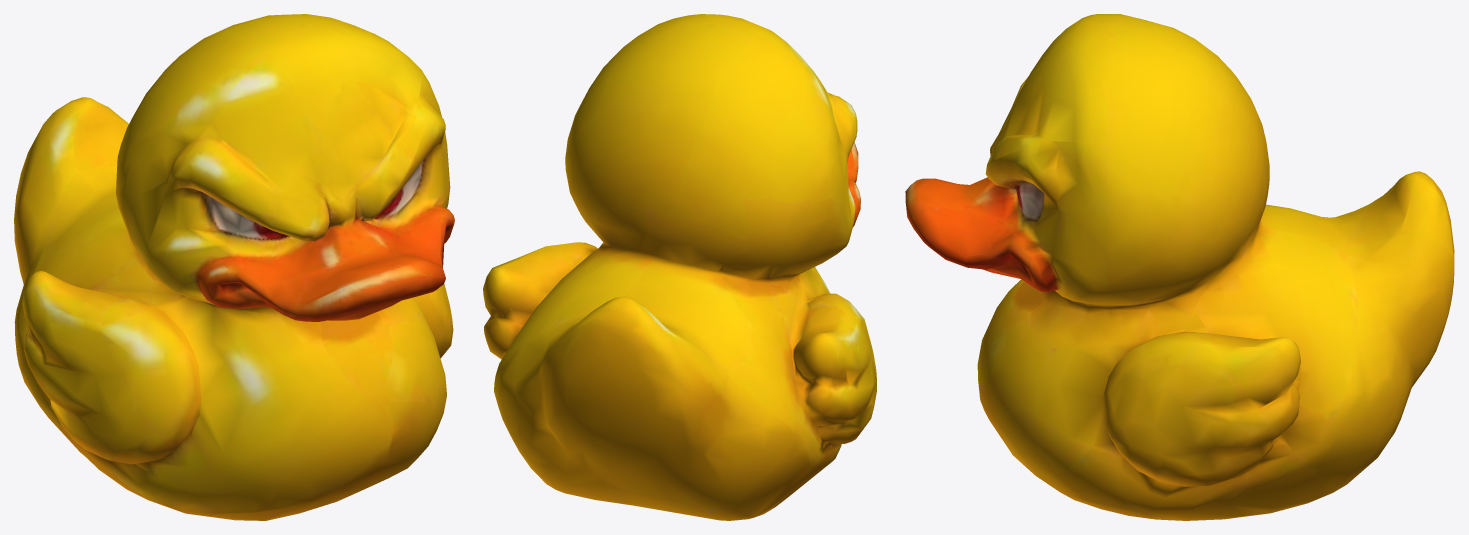
File: rubber_bullet.glb
The picture shows the model from 3 angles, left to right: view 1: azimuth 30°, elevation 25°; view 2: azimuth 150°, elevation 25°; view 3: azimuth 270°, elevation 25°; orthographic projection. The views are drawn at different scales.
Visible parts, largest first — view 1: tripo_node_df1ae656-00f2-48b2-a415-df9086bef06a; view 2: tripo_node_df1ae656-00f2-48b2-a415-df9086bef06a; view 3: tripo_node_df1ae656-00f2-48b2-a415-df9086bef06a.
Boxes of the visible parts, x1,y1,x2,y2 form: tripo_node_df1ae656-00f2-48b2-a415-df9086bef06a: (14, 14, 454, 520); tripo_node_df1ae656-00f2-48b2-a415-df9086bef06a: (483, 14, 876, 520); tripo_node_df1ae656-00f2-48b2-a415-df9086bef06a: (905, 14, 1454, 520).
Size of the model in its own units: 0.7688 by 0.8845 by 0.978.
1 material, 1 textured.
